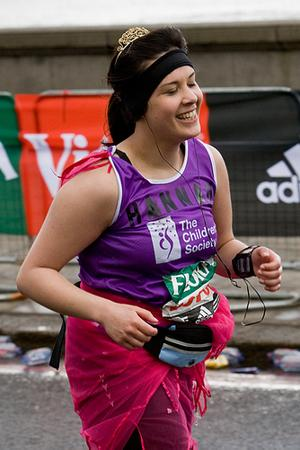person: (15, 25, 283, 450)
